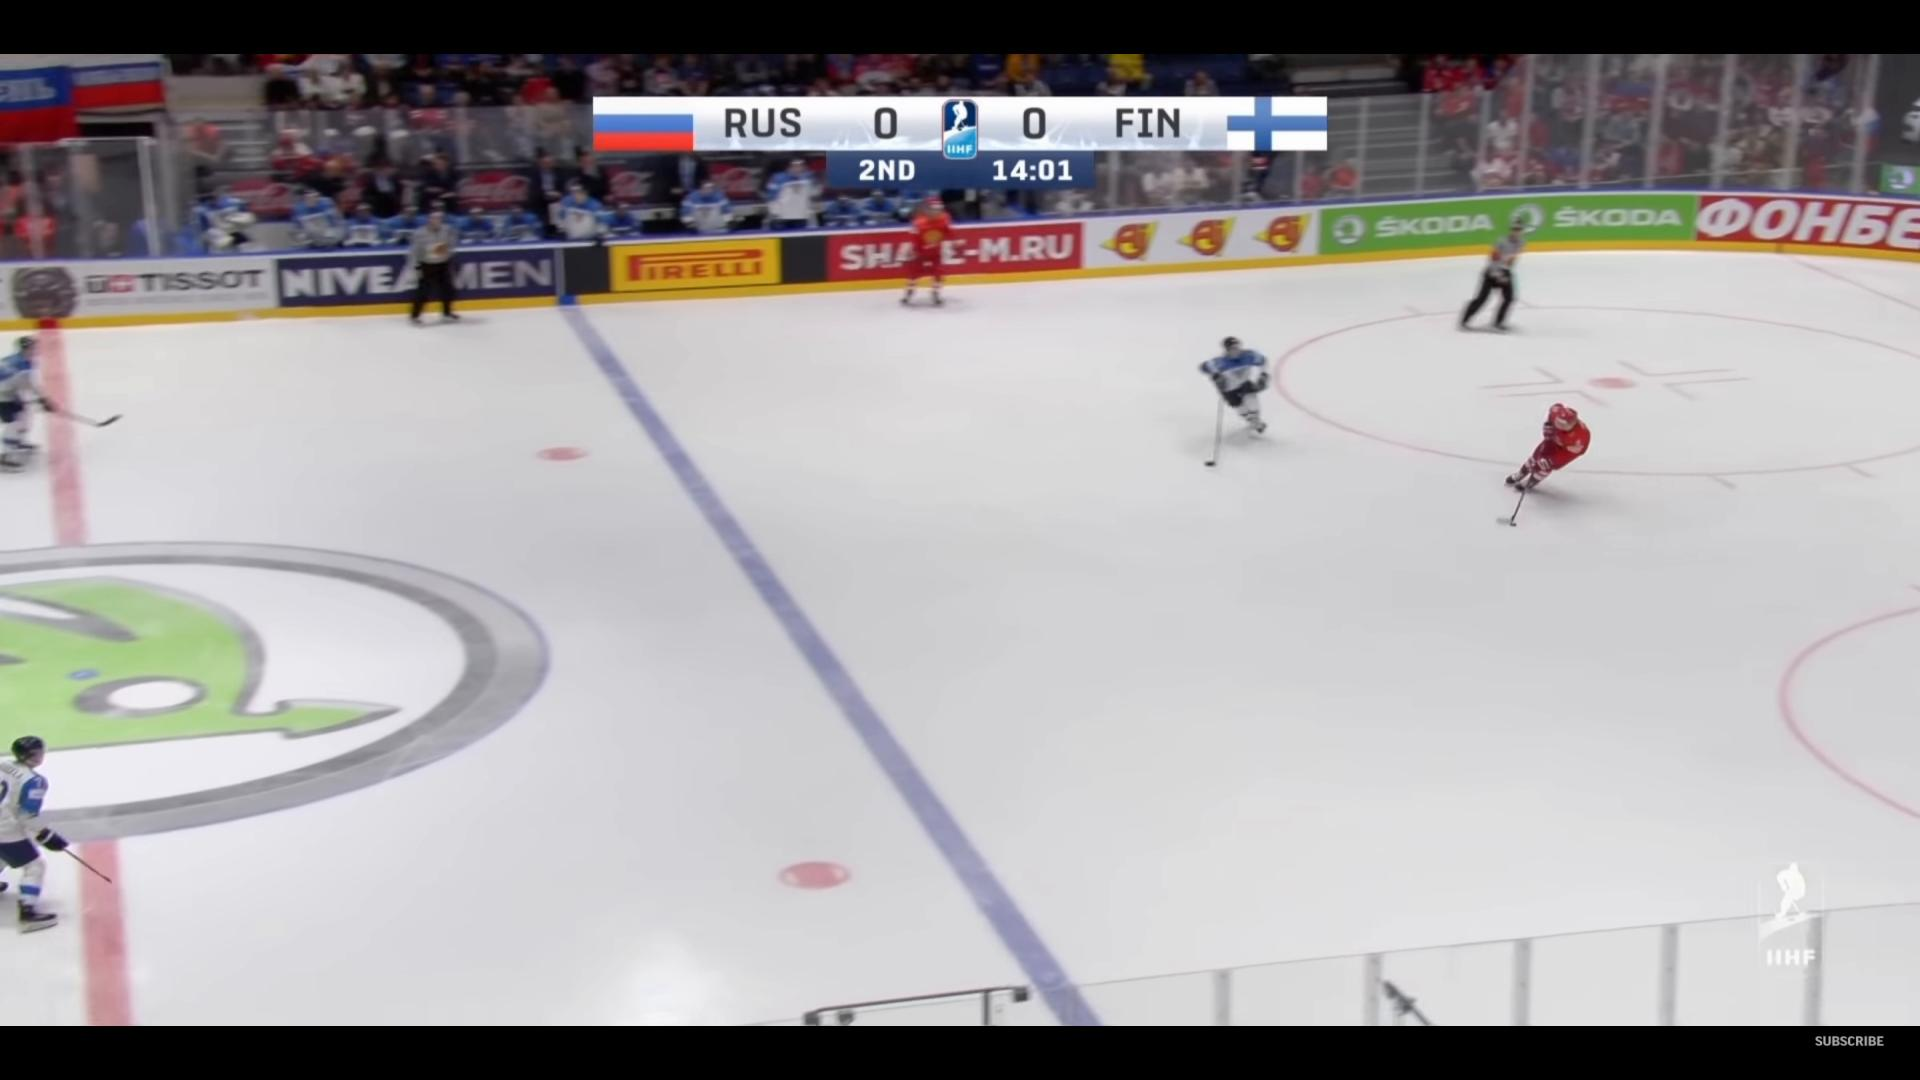puck: (1511, 521, 1516, 526)
